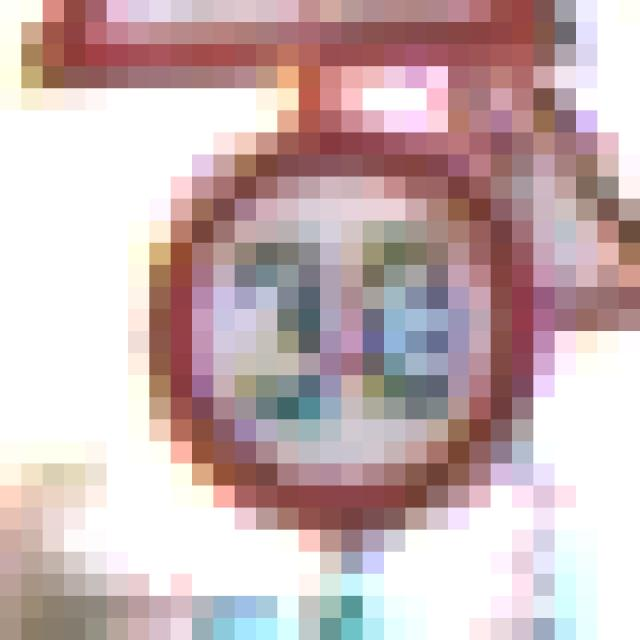Speed Limit -30-: (96, 99, 523, 519)
